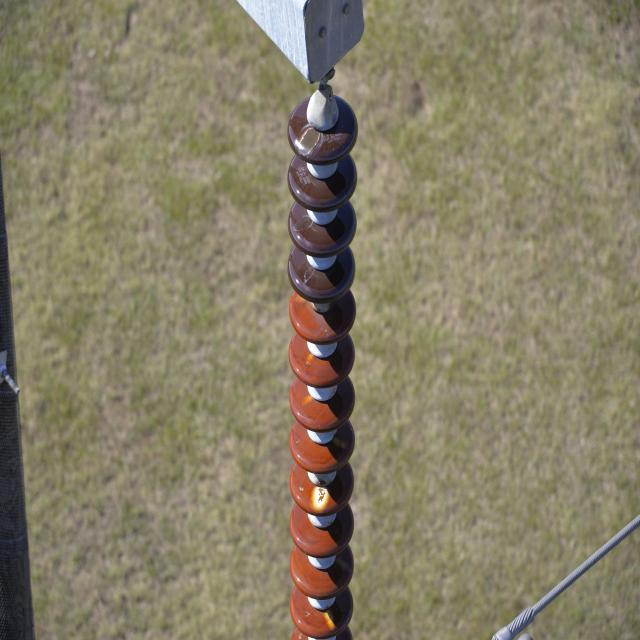insulator: (285, 94, 358, 640)
